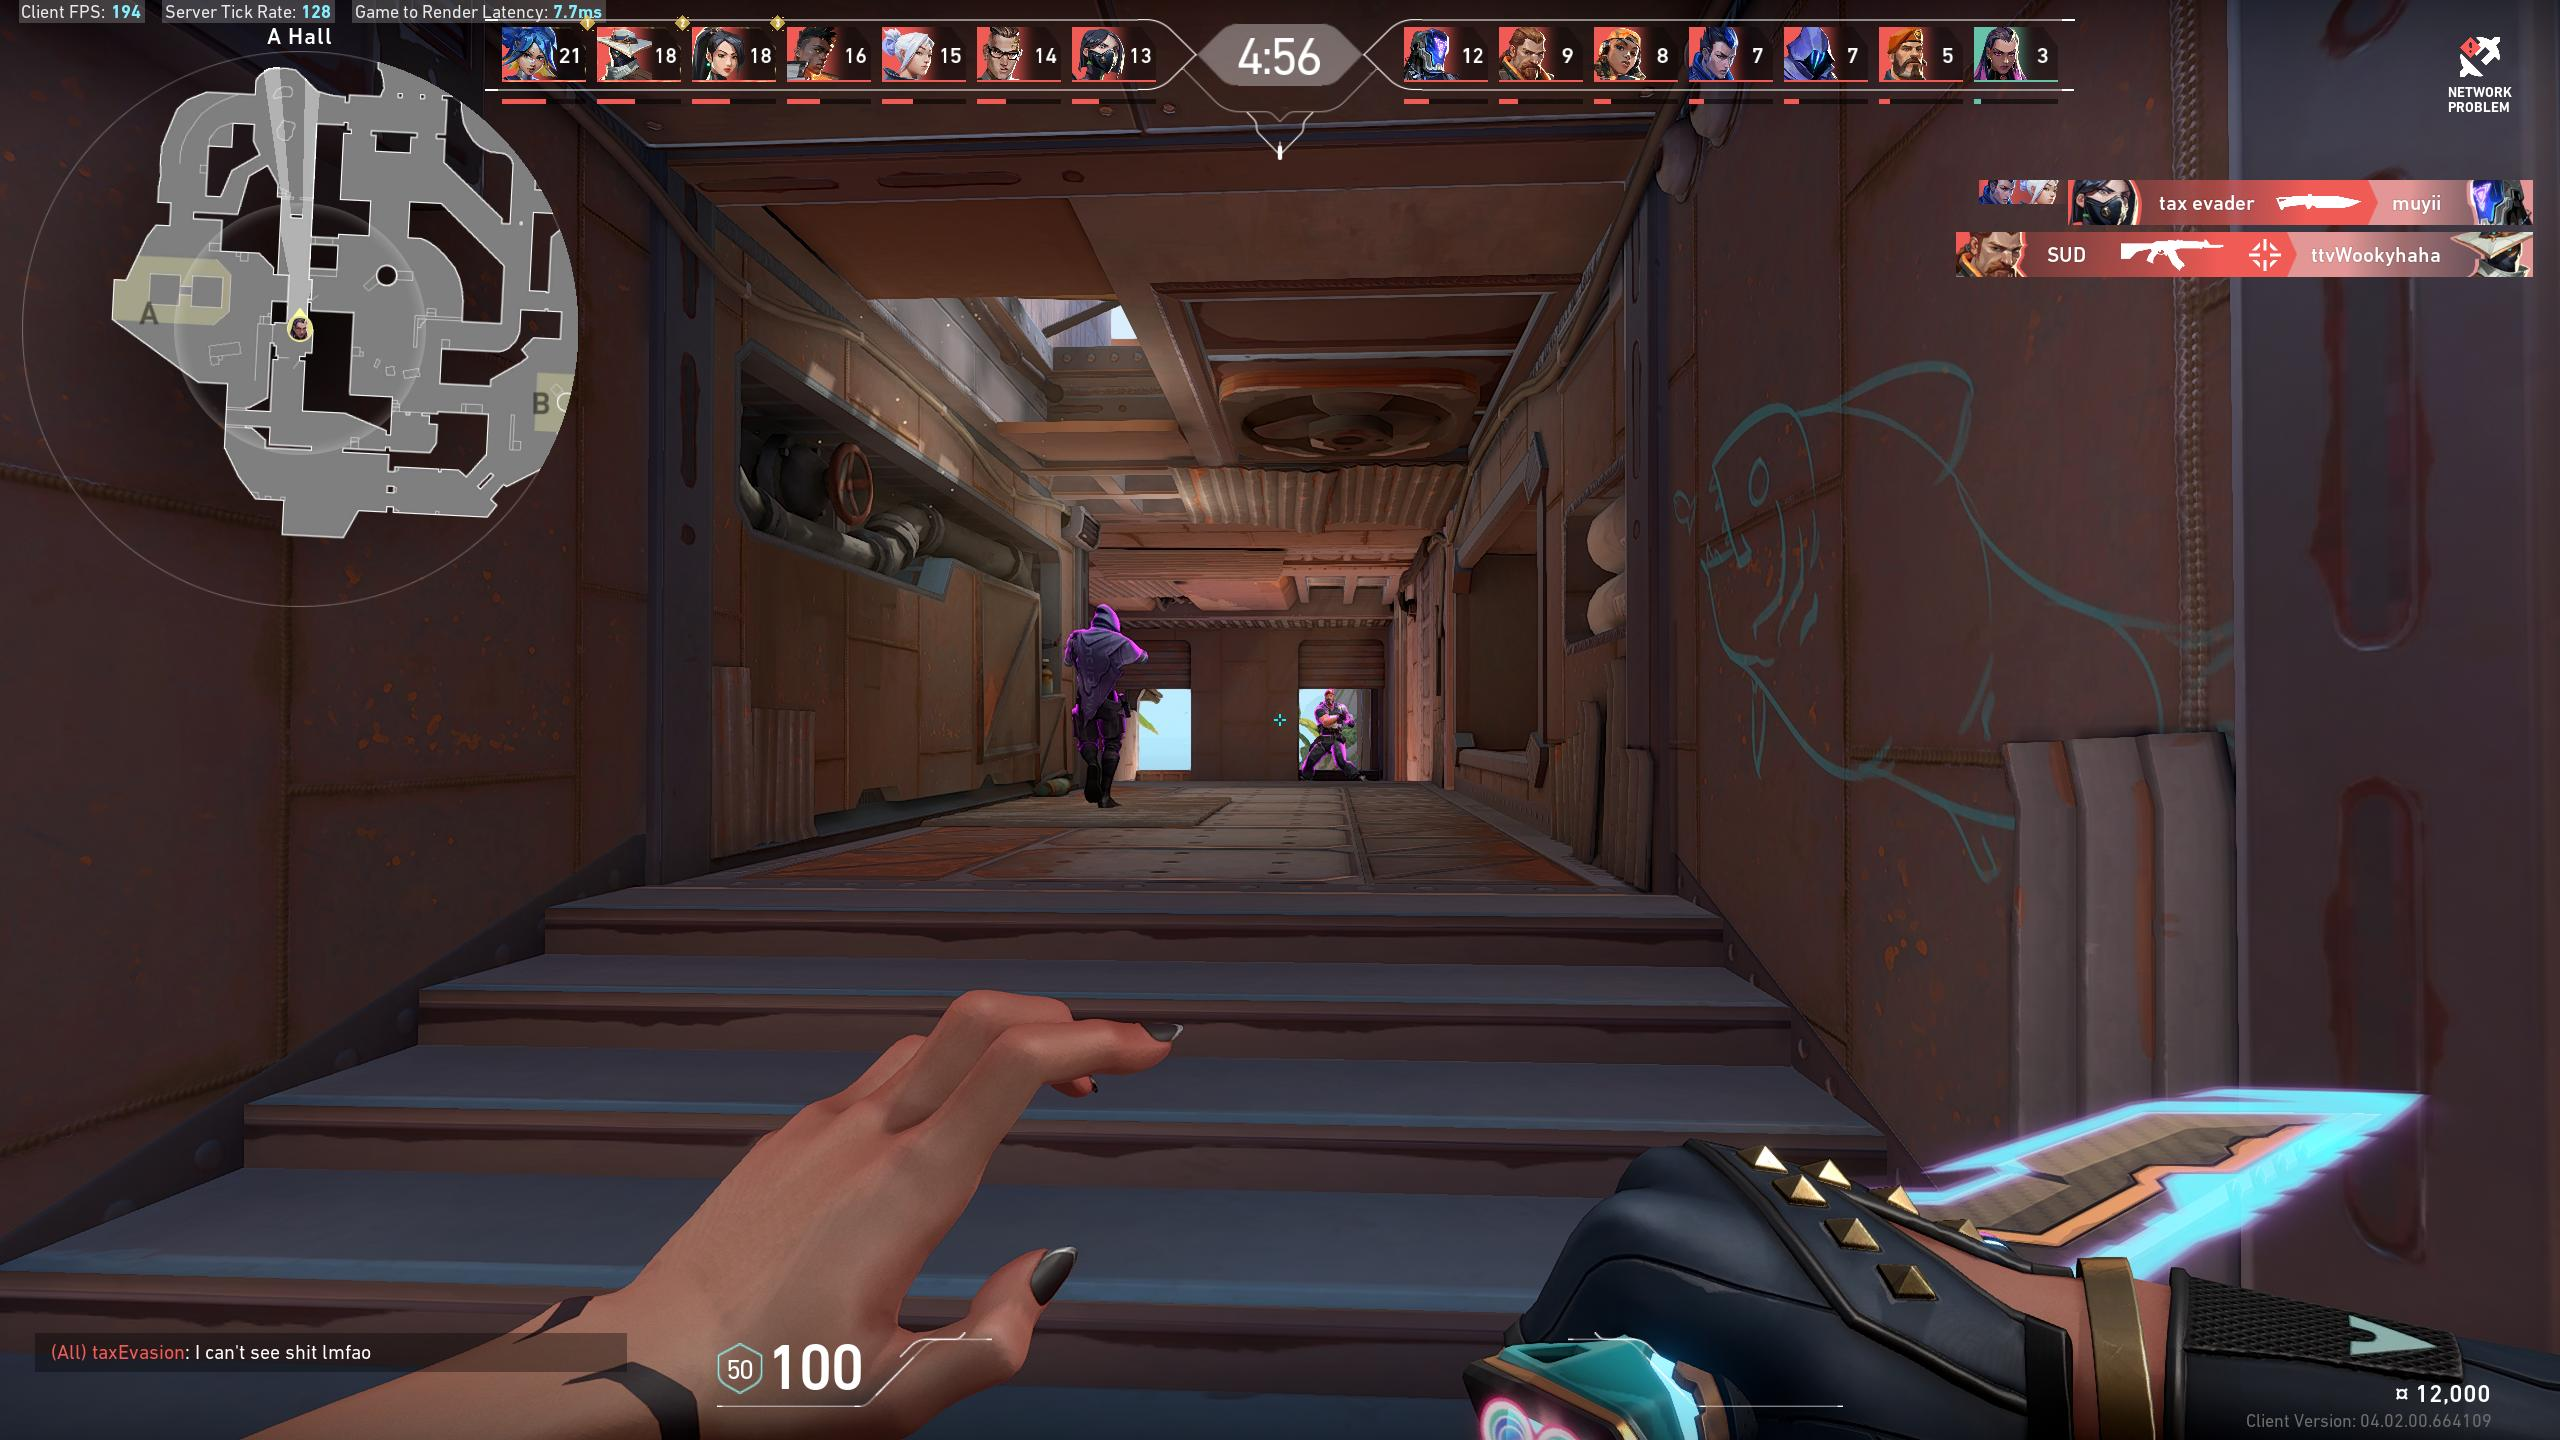enemyBody: (1083, 635, 1115, 689), (1322, 705, 1340, 731)
enemyHead: (1095, 610, 1115, 629), (1326, 693, 1333, 703)
